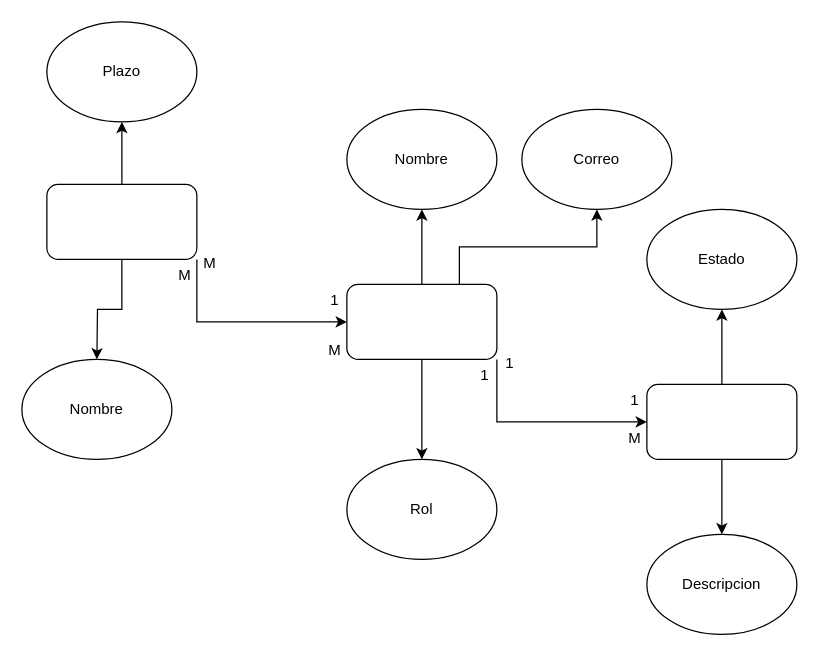
This 819x656 diagram has some shape labels left out. Each missing label, with the centre of its shape:
"Empleado" goes at point 421,321.
"Proyecto" goes at point 121,221.
"Tarea" goes at point 721,421.
